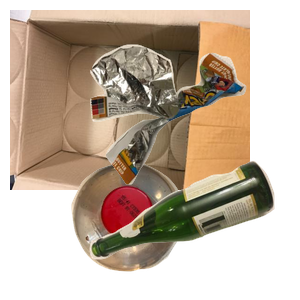cardboard: (10, 10, 250, 190)
glass: (87, 158, 300, 300)
plastic: (69, 161, 245, 300)
trash: (88, 42, 300, 219)
